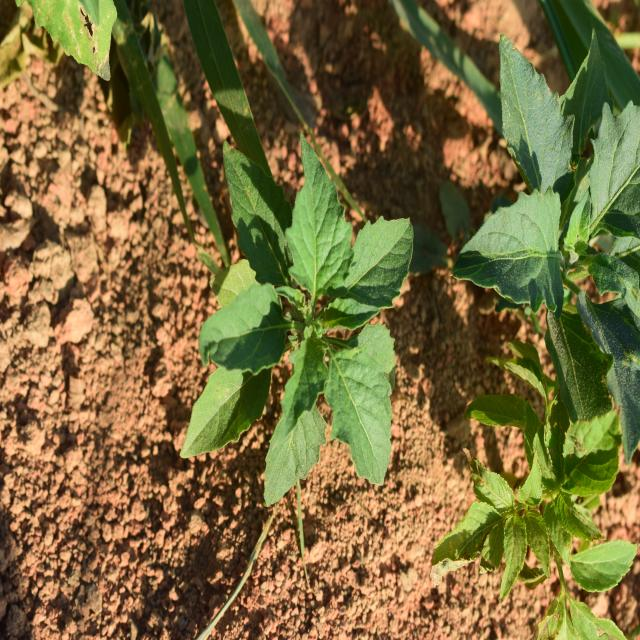Black_nightshade: (196, 171, 405, 484), (466, 55, 639, 391)
